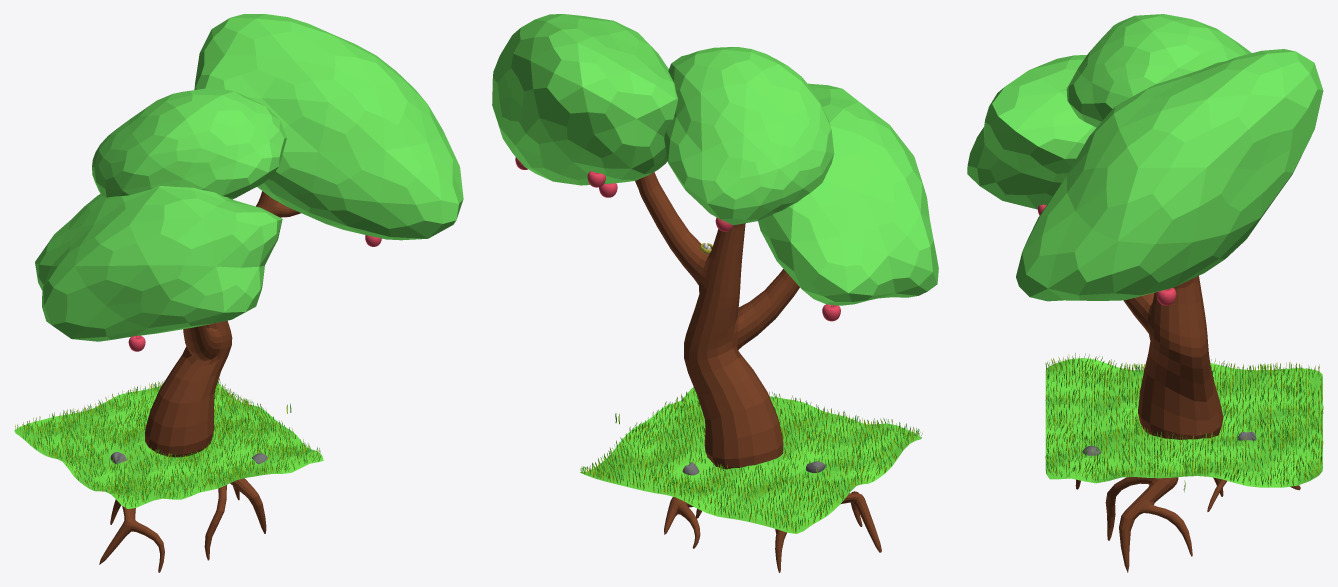
The model's file is arbol grande.fbx.
3 renders of one model, left to right at view 1: azimuth 30°, elevation 25°; view 2: azimuth 150°, elevation 25°; view 3: azimuth 270°, elevation 25°, orthographic. The views are drawn at different scales.
Visible parts, largest first — view 1: Icosphere.002, Icosphere.001, tierra, Icosphere, tronco grande; view 2: Icosphere.002, Icosphere.001, Icosphere, tierra, tronco grande; view 3: Icosphere.002, tierra, tronco grande, Icosphere.001, Icosphere.
Part boxes in pixels (x1=…): Icosphere.002: x1=194, y1=14, x2=463, y2=240; Icosphere.001: x1=35, y1=186, x2=282, y2=341; tierra: x1=14, y1=382, x2=323, y2=508; Icosphere: x1=92, y1=88, x2=286, y2=199; tronco grande: x1=99, y1=191, x2=300, y2=572; Icosphere.002: x1=492, y1=14, x2=677, y2=185; Icosphere.001: x1=758, y1=83, x2=938, y2=305; Icosphere: x1=664, y1=47, x2=834, y2=225; tierra: x1=580, y1=387, x2=921, y2=533; tronco grande: x1=635, y1=172, x2=881, y2=572; Icosphere.002: x1=1016, y1=49, x2=1323, y2=301; tierra: x1=1045, y1=358, x2=1322, y2=487; tronco grande: x1=1075, y1=276, x2=1300, y2=572; Icosphere.001: x1=967, y1=55, x2=1096, y2=209; Icosphere: x1=1066, y1=14, x2=1251, y2=127.
Bounding box in the file's own units: 8991 × 10118 × 5904.
